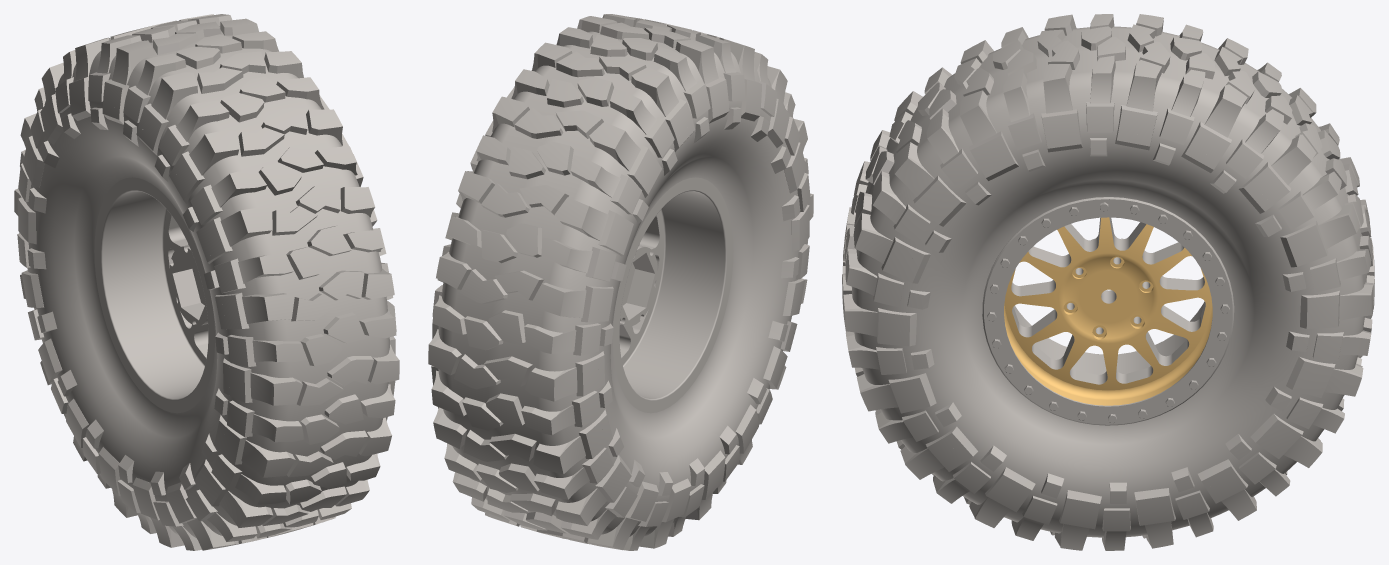
File: ARCADA001 - Part 1 (10).obj
3 views of the same model, side by side, from view 1: azimuth 30°, elevation 25°; view 2: azimuth 150°, elevation 25°; view 3: azimuth 270°, elevation 25° (orthographic).
Visible parts, largest first — view 1: mesh2117, mesh2119, mesh2112, mesh1443, mesh2113, mesh2065, mesh820, mesh2115, mesh2114, mesh2111, mesh2041, mesh1429 (+57 smaller); view 2: mesh2117, mesh2119, mesh2112, mesh1443, mesh2113, mesh2065, mesh820, mesh2115, mesh2114, mesh2111, mesh2041, mesh1429 (+59 smaller); view 3: mesh774, mesh144, mesh2282, mesh143, mesh2240, mesh140, mesh141, mesh142, mesh820, mesh2246, mesh2241, mesh2259 (+45 smaller).
Part boxes in pixels (x1,y1,x2,y2): mesh2117: (102,191,204,398); mesh2119: (27,232,246,501); mesh2112: (54,240,217,459); mesh1443: (150,42,328,382); mesh2113: (74,244,217,438); mesh2065: (26,92,246,368); mesh820: (198,30,376,362); mesh2115: (94,177,214,413); mesh2114: (74,156,216,339); mesh2111: (54,140,217,358); mesh2041: (255,400,327,527); mesh1429: (317,381,375,510); mesh2117: (623,191,724,398); mesh2119: (581,232,801,501); mesh2112: (610,240,773,459); mesh1443: (499,40,681,382); mesh2113: (610,244,753,438); mesh2065: (581,100,800,368); mesh820: (452,32,622,365); mesh2115: (613,177,733,413); mesh2114: (612,156,753,339); mesh2111: (610,140,773,358); mesh2041: (499,379,561,520); mesh1429: (451,366,527,513); mesh774: (884,317,1334,522); mesh144: (882,112,1332,319); mesh2282: (984,199,1232,424); mesh143: (942,312,1274,467); mesh2240: (1004,217,1212,390); mesh140: (962,308,1254,444); mesh141: (962,179,1254,311); mesh142: (942,167,1274,317); mesh820: (852,50,1366,294); mesh2246: (1063,257,1153,338); mesh2241: (1004,303,1212,399); mesh2259: (1079,270,1137,322).
Size of the model in its own units: 0.0374 by 0.1034 by 0.1034.
